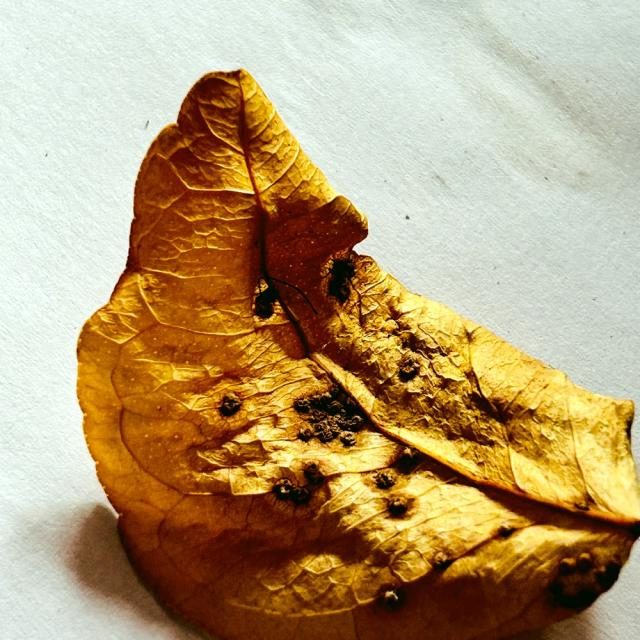DryLeaf_Lemon: (77, 70, 639, 639)
